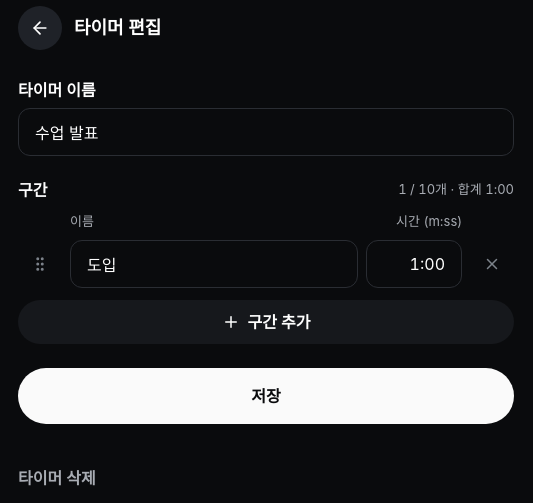
Test case: TimerEditor › does not save zero segments
The image size is (533, 503).
Expected: the field showing "수업 발표" is shown, left=18, top=108, right=514, bottom=156
Click the button named "구간 1 삭제" at (492, 264), box left=470, top=242, right=514, bottom=286
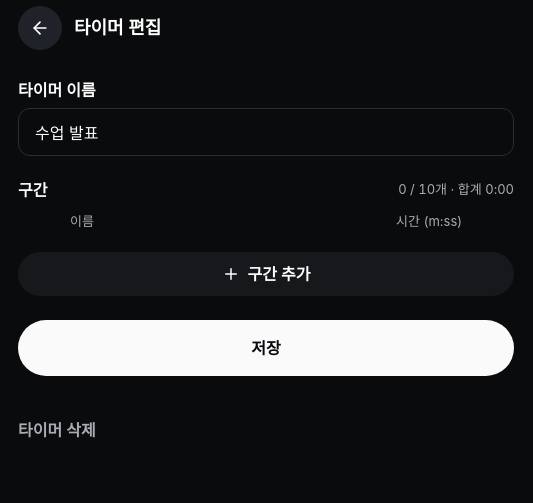
Click the button "저장" at (266, 348), box left=18, top=320, right=514, bottom=376
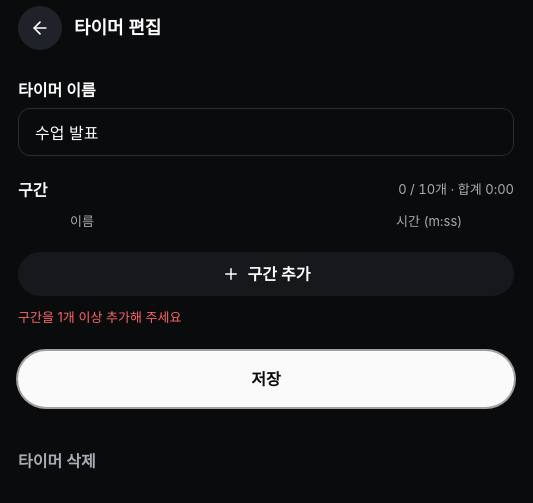
Expected: the text "구간을 1개 이상 추가해 주세요" is shown, left=18, top=308, right=181, bottom=324
